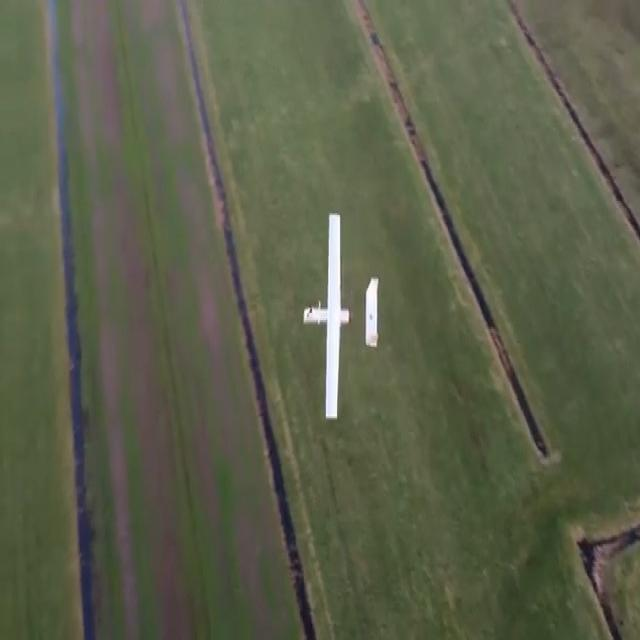iha: (329, 203, 357, 432)
